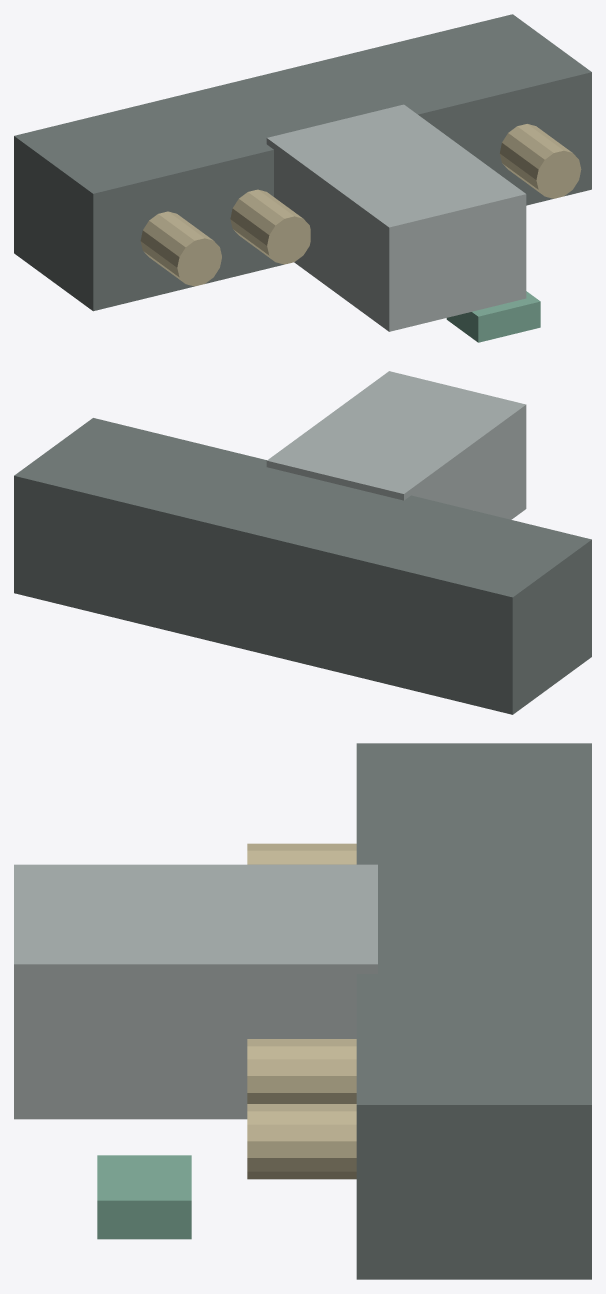
File: filling-line-high.glb
3 views of the same model, one above another, from view 1: azimuth 30°, elevation 25°; view 2: azimuth 150°, elevation 25°; view 3: azimuth 270°, elevation 25° (orthographic). The views are drawn at different scales.
Parts seen in each view (by area): view 1: conveyor, filler, bottle-0, bottle-4, bottle-1, screen; view 2: conveyor, filler; view 3: conveyor, filler, bottle-4, screen, bottle-3, bottle-0.
Boxes of the visible parts, x1,y1,x2,y2 form: conveyor: (14, 14, 591, 311); filler: (266, 104, 526, 331); bottle-0: (140, 211, 221, 286); bottle-4: (499, 124, 581, 198); bottle-1: (230, 189, 310, 264); screen: (446, 291, 540, 342); conveyor: (14, 418, 591, 714); filler: (266, 371, 526, 519); conveyor: (356, 743, 591, 1279); filler: (14, 864, 377, 1119); bottle-4: (247, 1104, 356, 1179); screen: (97, 1155, 191, 1239); bottle-3: (247, 1039, 356, 1103); bottle-0: (247, 843, 356, 864).
Bounding box in the file's own units: 2 × 0.63 × 1.35.
